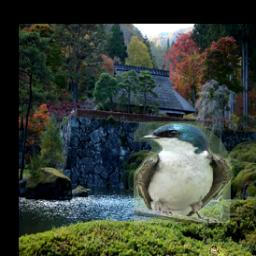Sparrow: (208, 246, 227, 256)
Swallow: (134, 122, 231, 224)
